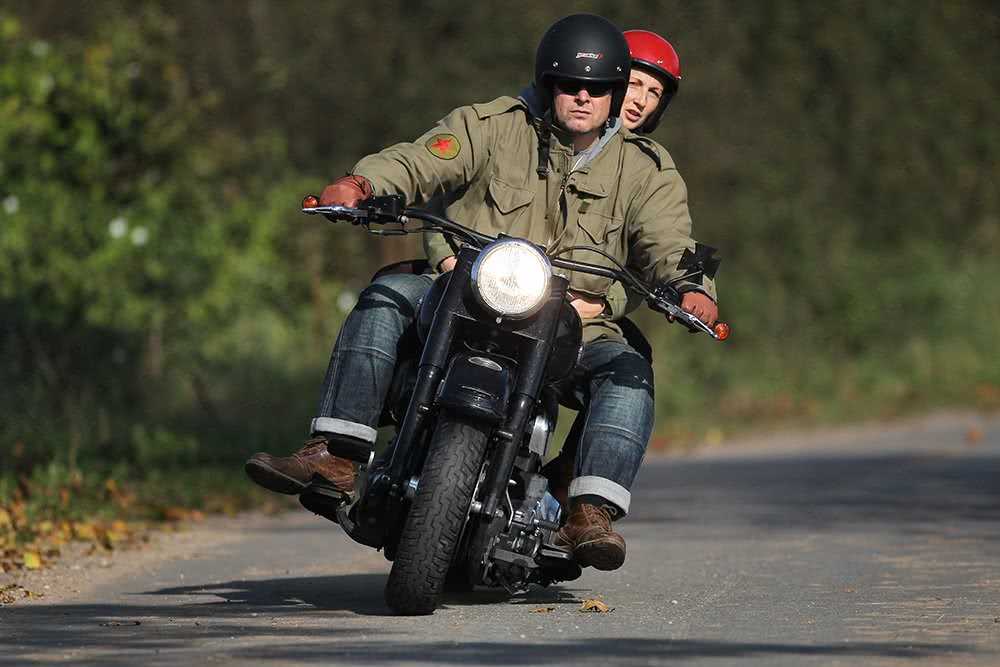helmet: (537, 10, 633, 136), (617, 18, 699, 135)
